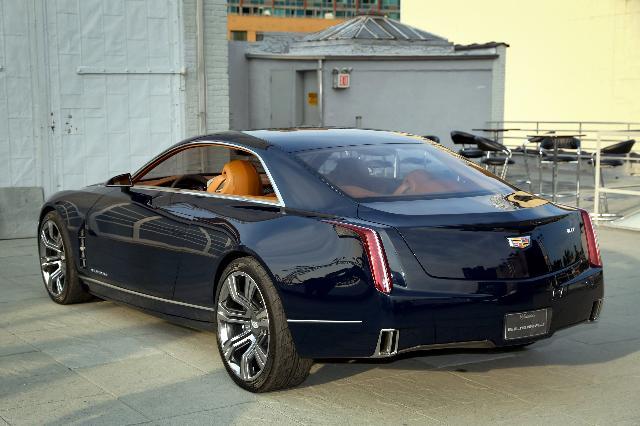cadillac: (37, 128, 605, 394)
